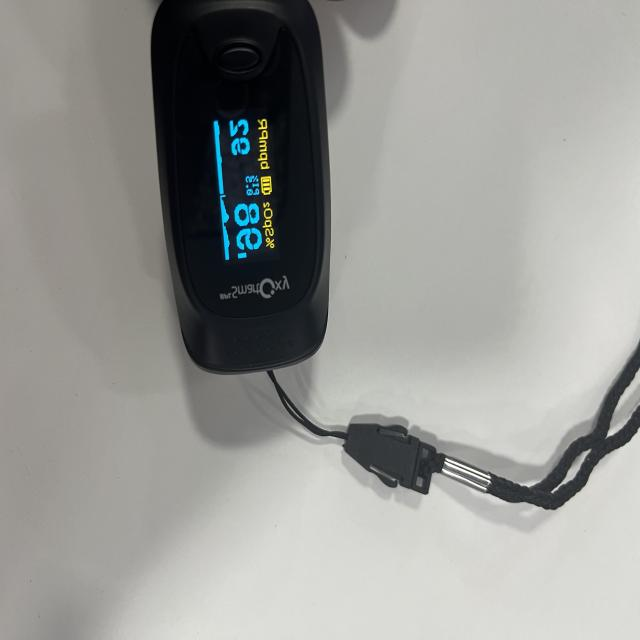spo2: (150, 0, 332, 378)
